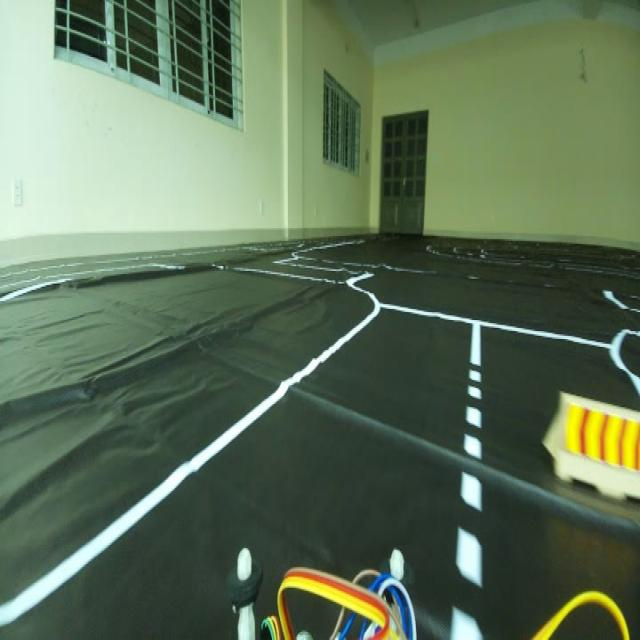roadblock: (538, 373, 640, 511)
